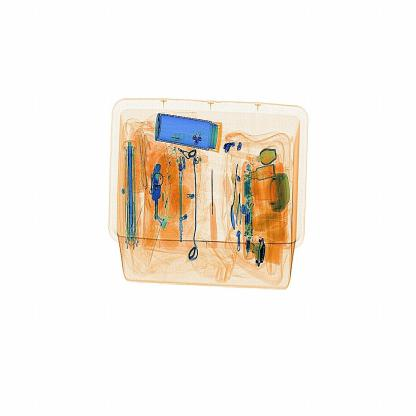wrench: (207, 167, 222, 254)
